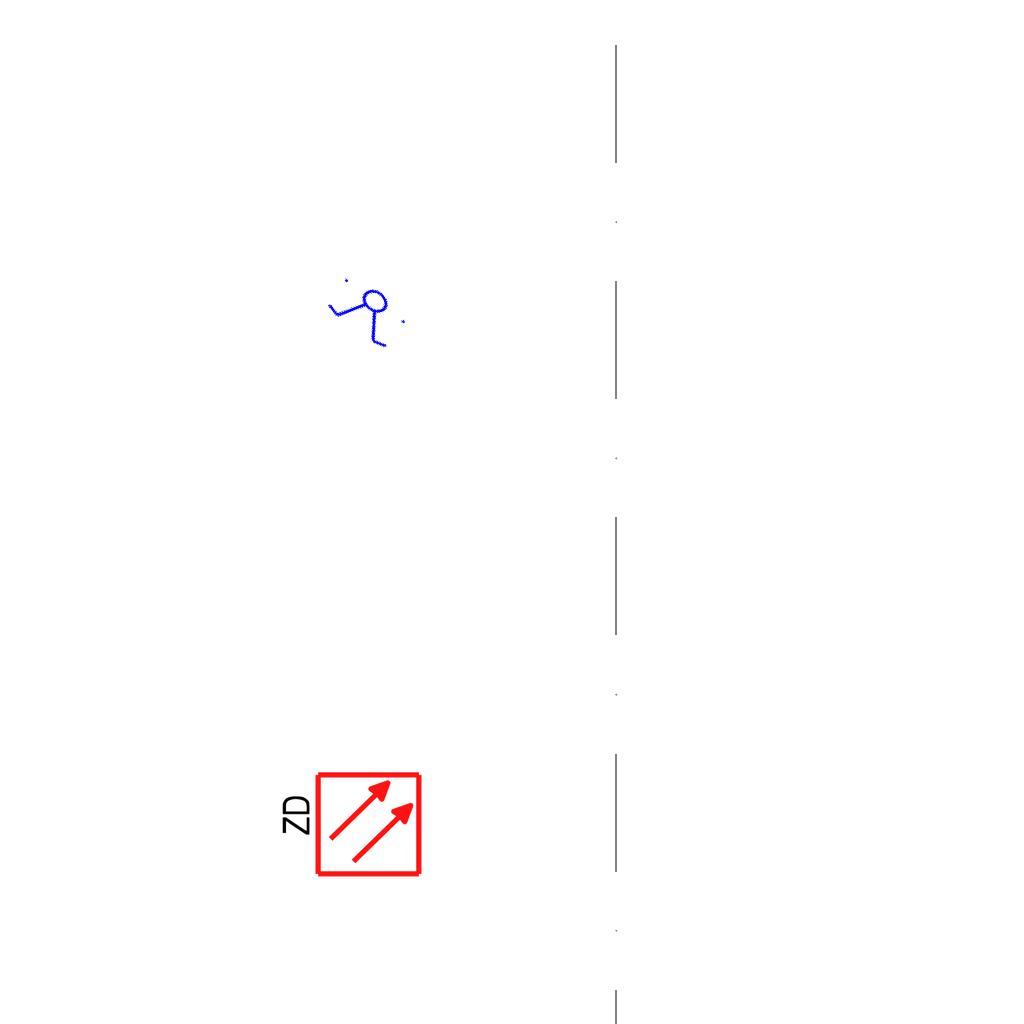Serienschalter: (319, 267, 417, 357)
ZD_Melder_in_Zwischendecke_mit_Revisionsoeffnung_mind_40_x_40_cm: (275, 769, 424, 883)
